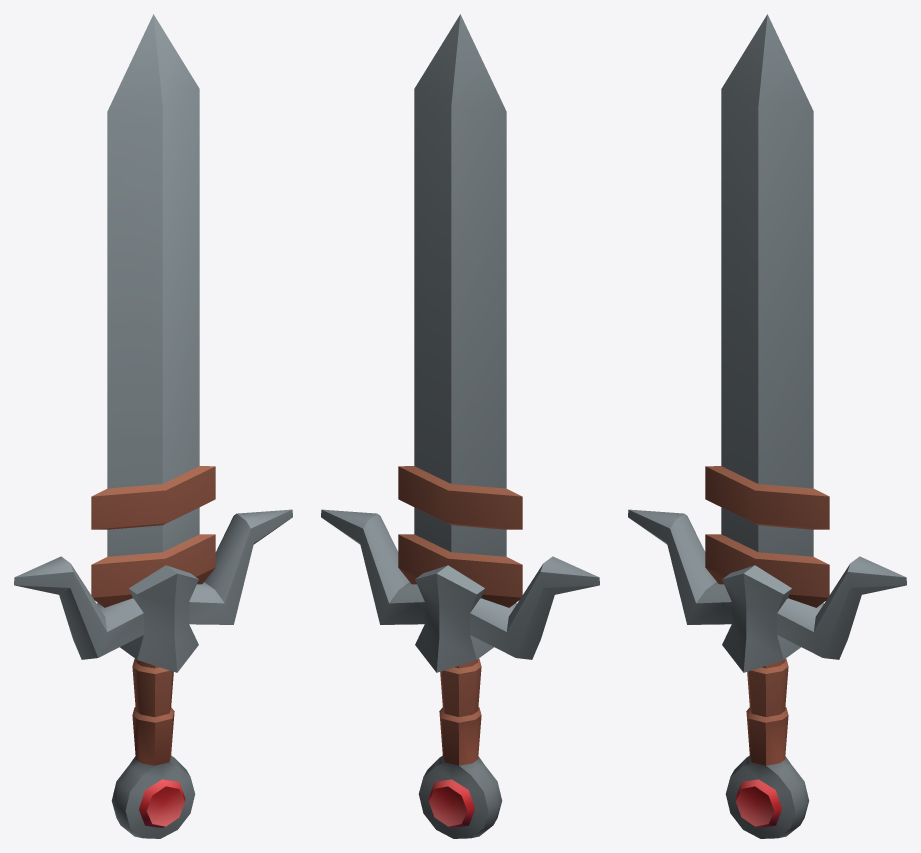
File: kaykit-greatsword.glb
3 views of the same model, side by side, from view 1: azimuth 30°, elevation 25°; view 2: azimuth 150°, elevation 25°; view 3: azimuth 330°, elevation 25° (orthographic).
Parts seen in each view (by area): view 1: kaykit-greatsword; view 2: kaykit-greatsword; view 3: kaykit-greatsword.
Part boxes in pixels (left/top/right/bottom): kaykit-greatsword: left=14, top=14, right=292, bottom=838; kaykit-greatsword: left=321, top=14, right=599, bottom=838; kaykit-greatsword: left=628, top=14, right=906, bottom=838.
Bounding box in the file's own units: 0.6293 × 1.77 × 0.1861.
Materials: 1 (1 with a texture image).
